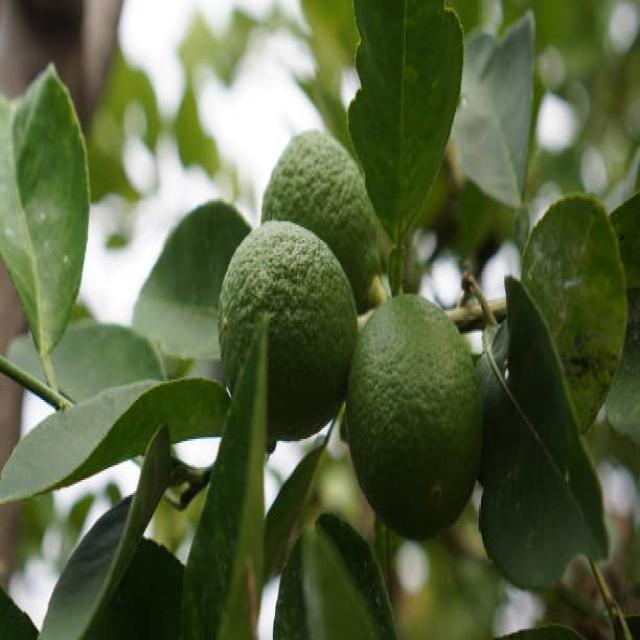Unripe: (343, 291, 482, 535), (214, 218, 360, 443)
